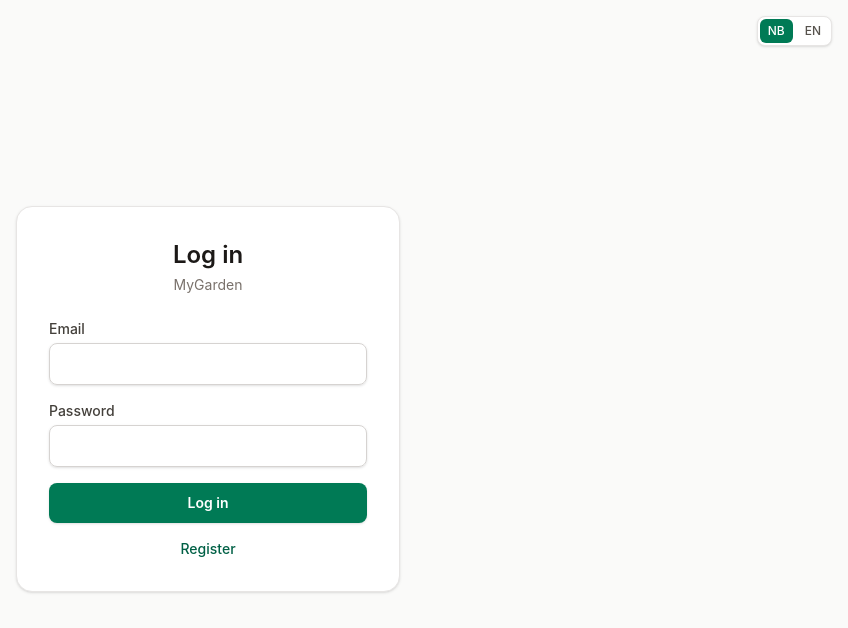
LoginPage › shows error when login fails
Type "a@b.c" into the field labelled "Email" at (208, 364), box [49,343,367,385]
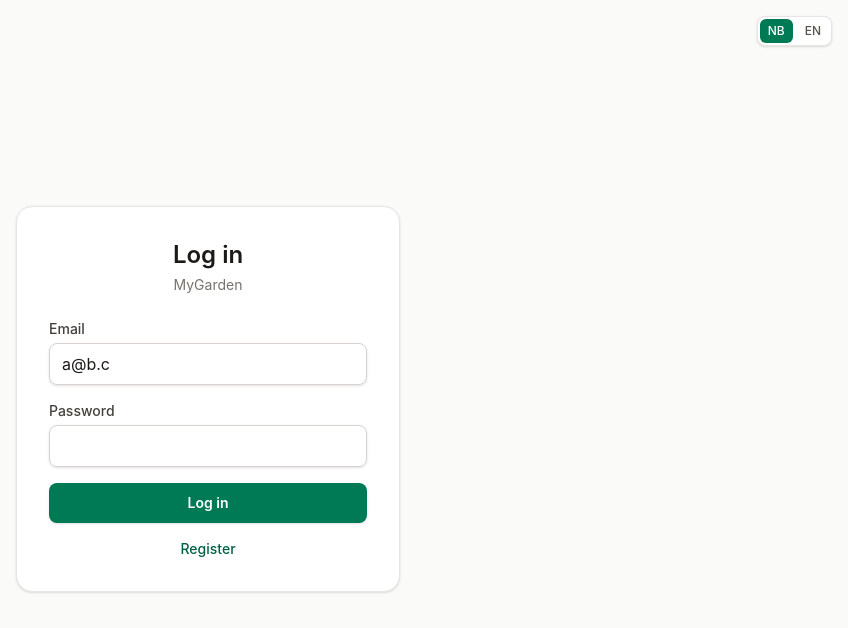
Type "secret12" into the password field labelled "Password" at (208, 446), box [49,425,367,467]
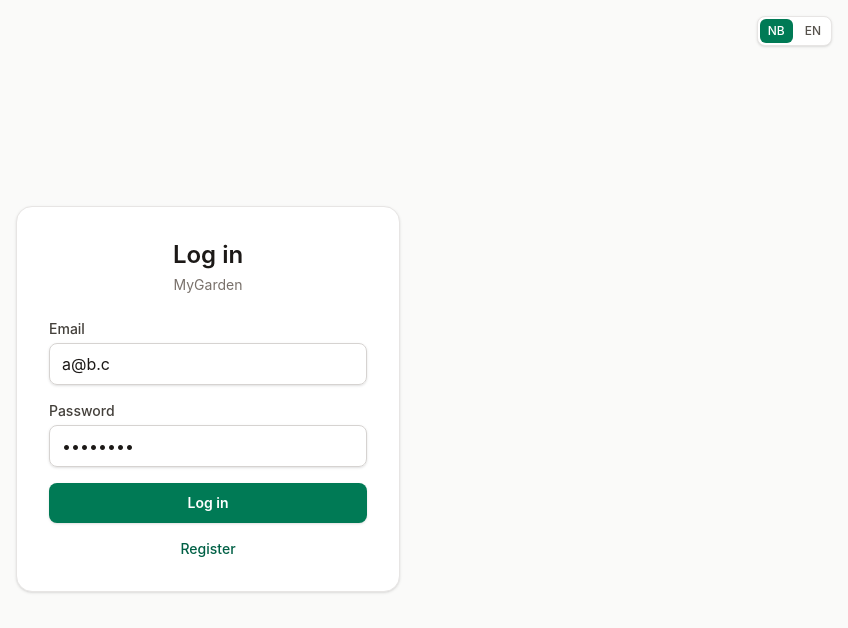
Click the button with test id "login-submit" at (208, 503), box [49,483,367,523]
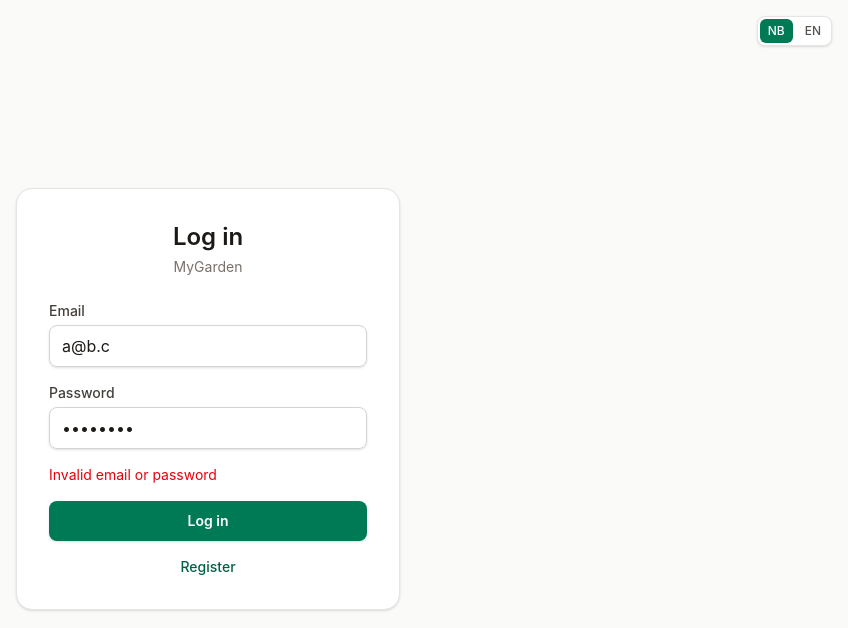
expect the message with test id "login-error" reads "Invalid email or password": met, box [49,466,217,483]
